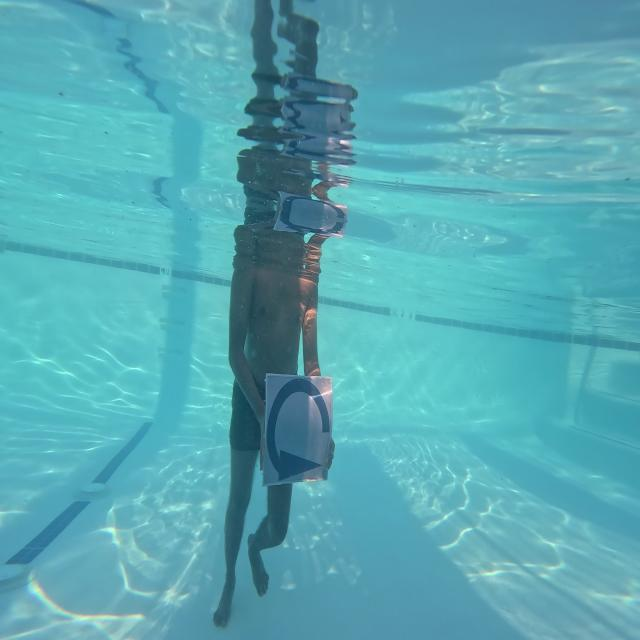blue_side: (264, 372, 334, 486)
